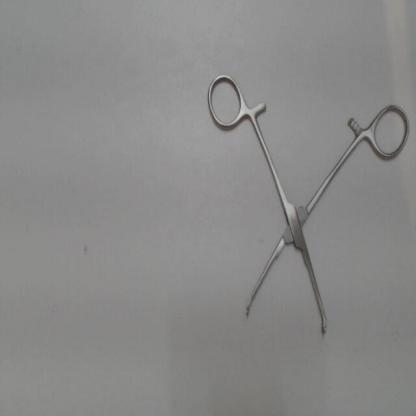Allis Tissue Forceps: (198, 62, 414, 344)
